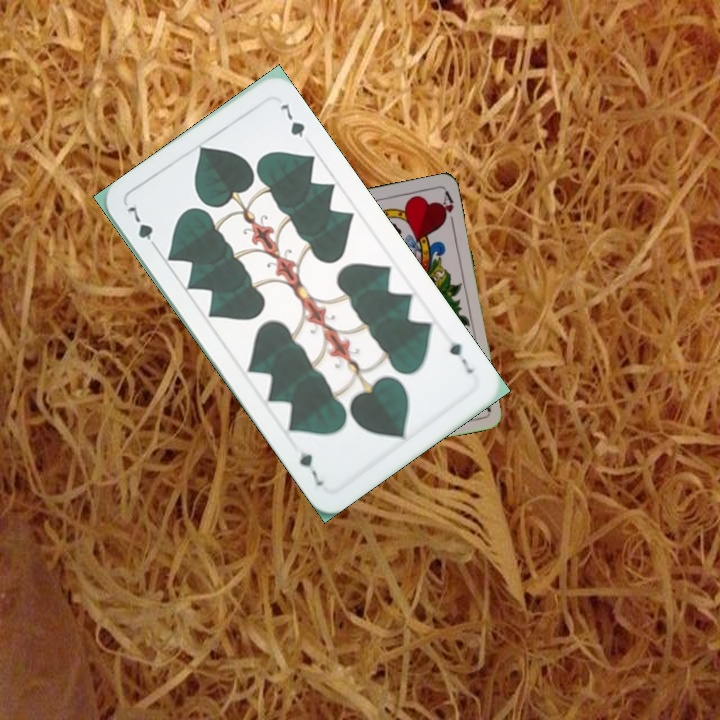G7: (122, 200, 162, 253), (445, 337, 477, 377)
